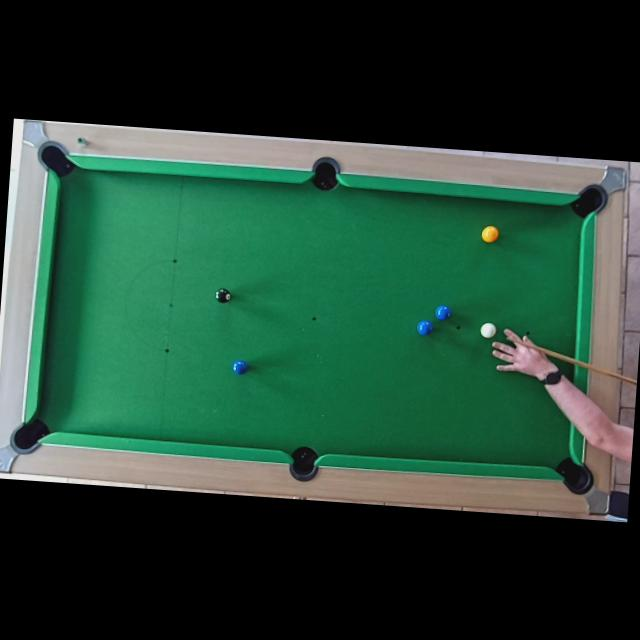Ball: (480, 224, 499, 243), (214, 286, 232, 304), (414, 318, 432, 336), (478, 321, 496, 338), (434, 304, 451, 321), (230, 360, 248, 376)
